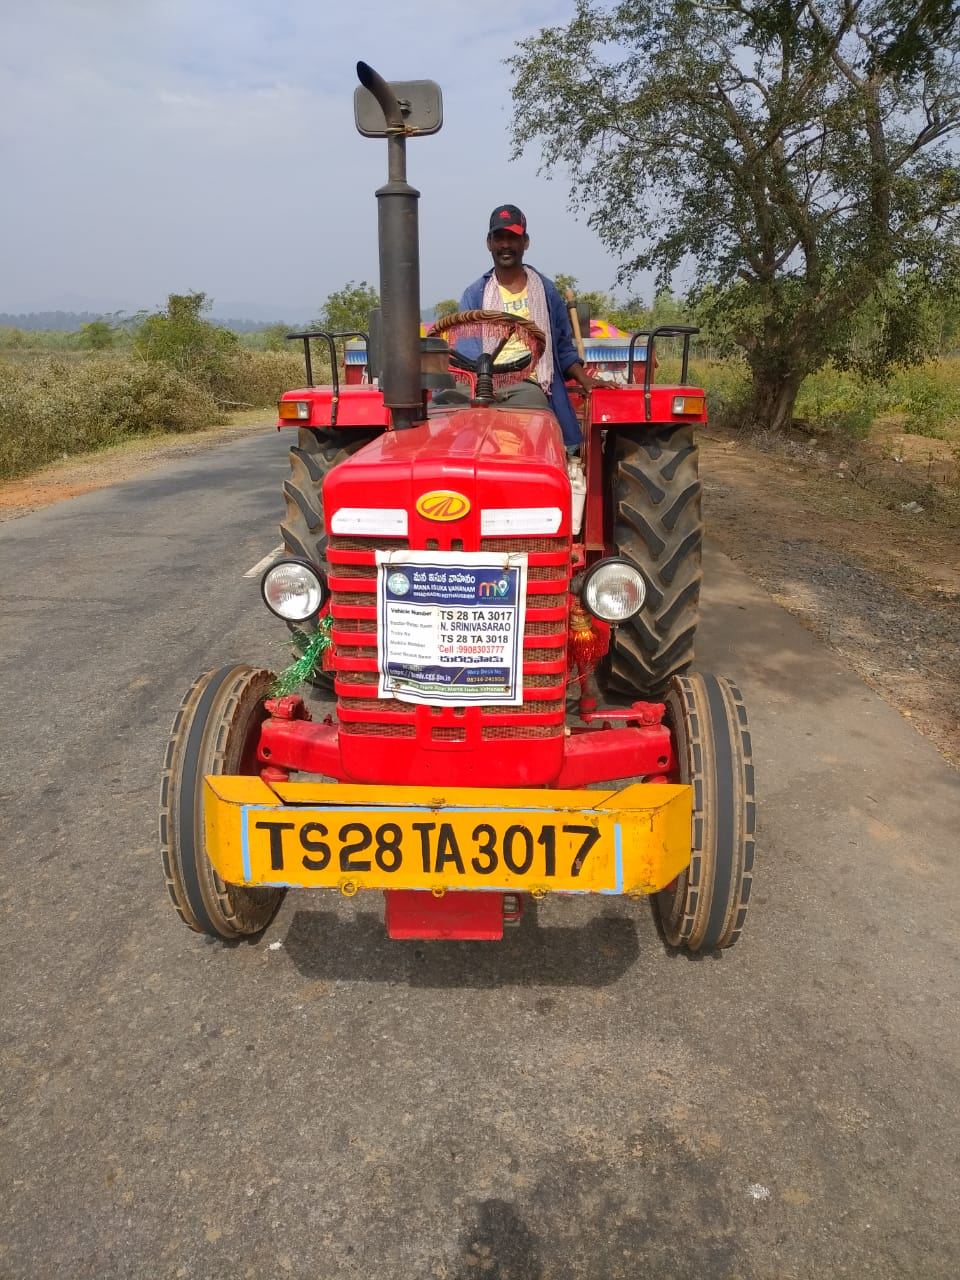num_plate: (239, 797, 621, 894)
